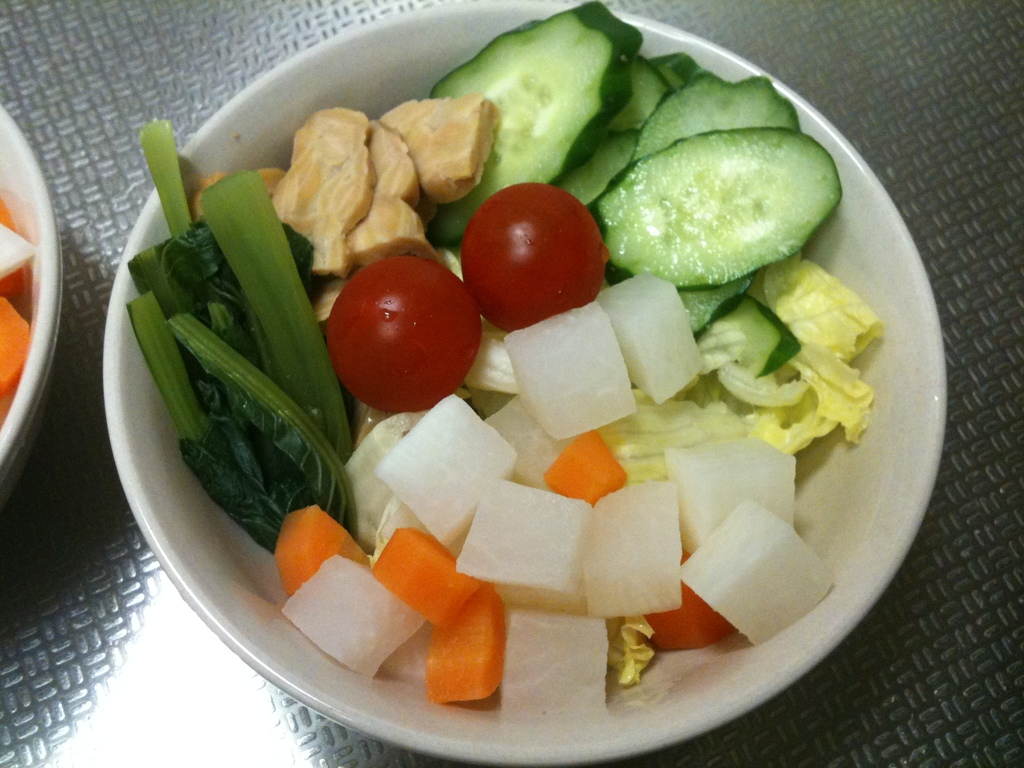Tomato: (323, 256, 486, 417), (466, 179, 609, 328)
